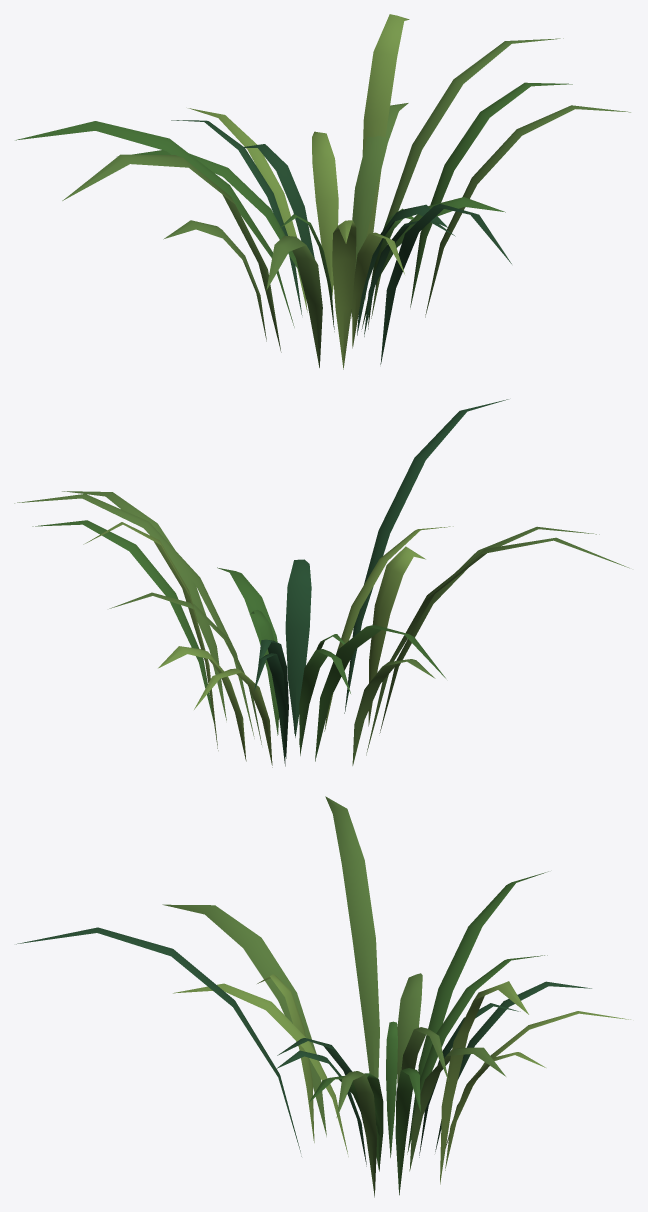
The model's file is meadow_grass_short.glb.
3 renders of one model, top to bottom at view 1: azimuth 30°, elevation 25°; view 2: azimuth 150°, elevation 25°; view 3: azimuth 270°, elevation 25°, orthographic. The views are drawn at different scales.
Visible parts, largest first — view 1: body; view 2: body; view 3: body.
Part boxes in pixels (x1,y1,x2,y2): body: (15,14,630,369); body: (14,399,629,767); body: (16,796,630,1197).
Bounding box in the file's own units: 0.6684 × 0.2792 × 0.6517.
